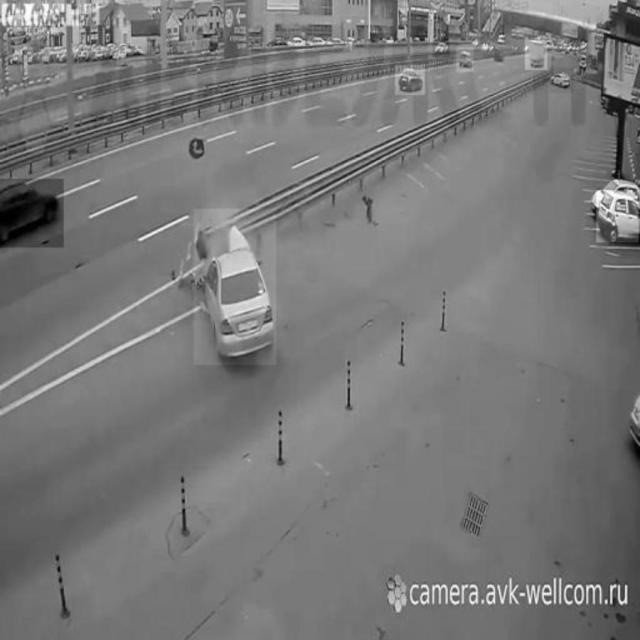accident: (193, 209, 275, 365)
vehicle: (0, 179, 64, 247), (596, 190, 638, 242), (395, 65, 425, 95), (525, 38, 547, 70), (549, 67, 574, 92), (457, 47, 474, 71), (433, 41, 450, 58)
